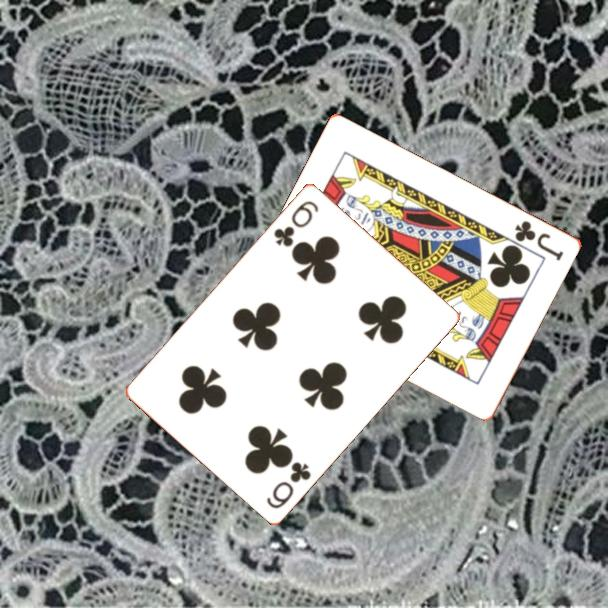c06: (270, 197, 322, 249), (263, 458, 314, 511)
c11: (511, 217, 567, 264)
